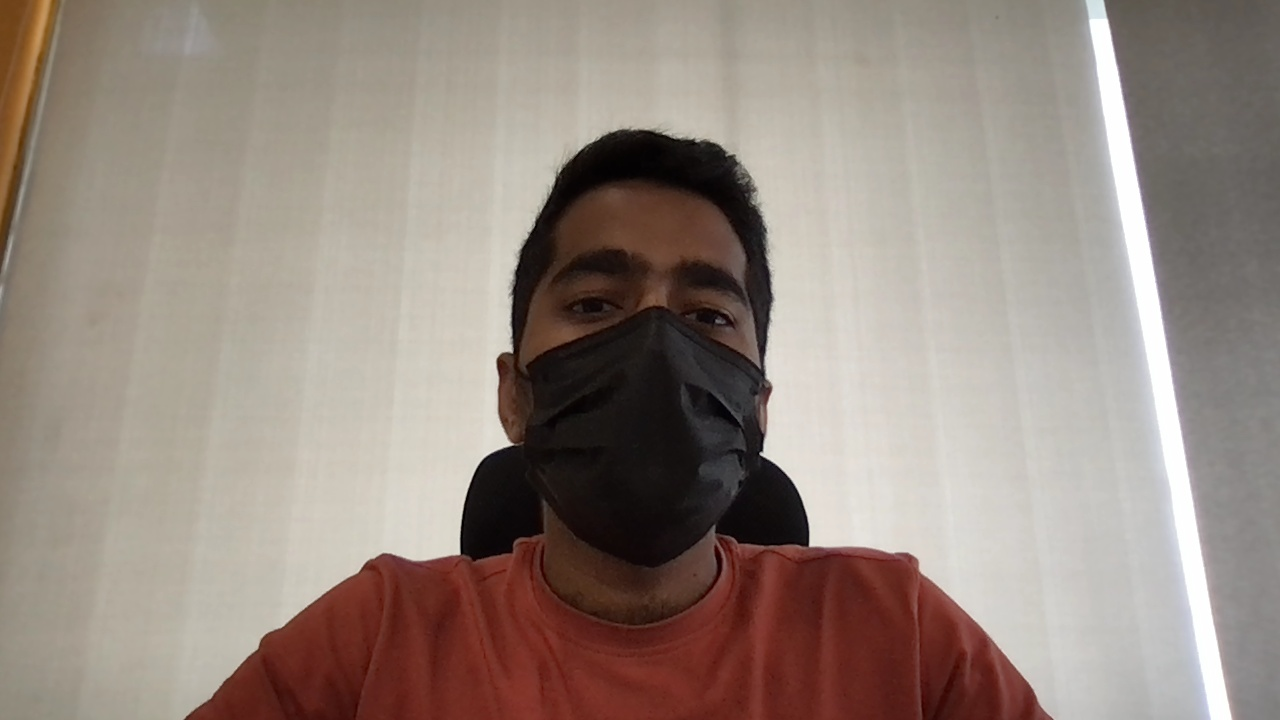mask: (514, 306, 768, 568)
